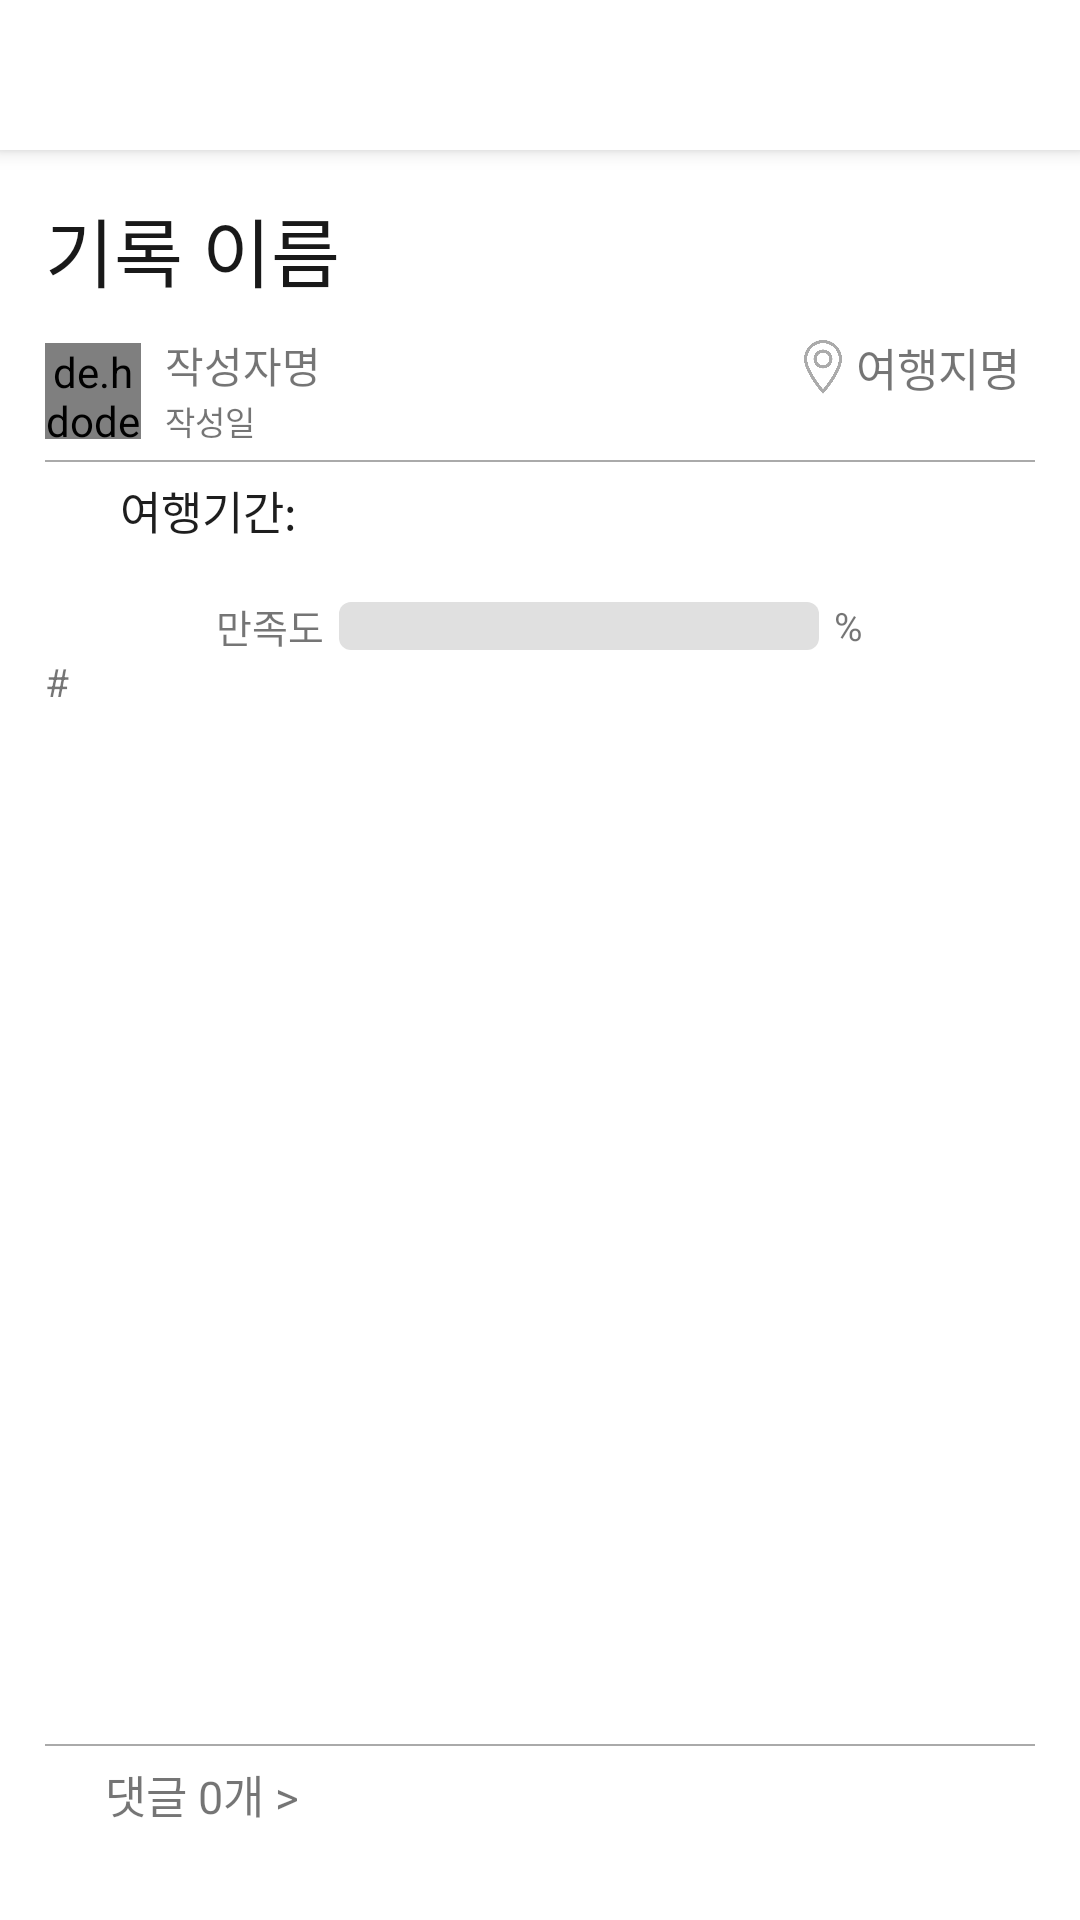

Icon bounding boxes for this 1080px×1920px phone screenshot, format rect(x1, y1, x2, y2):
location pin: rect(804, 340, 842, 393)
